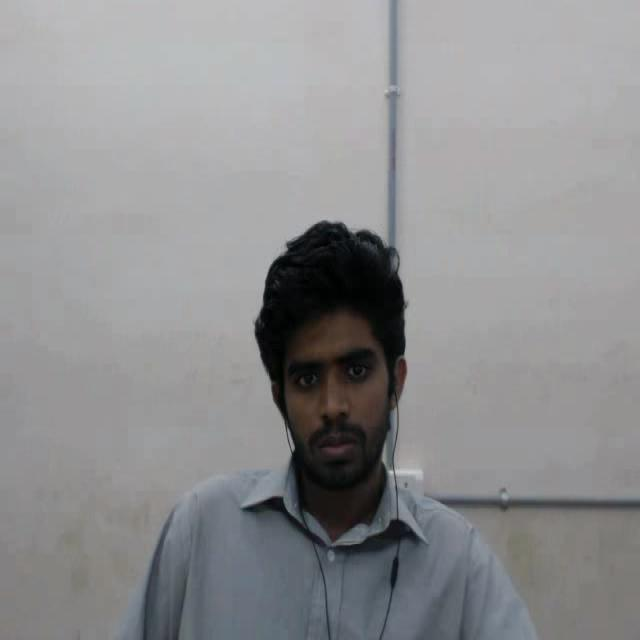Engaged: (229, 200, 446, 526)
